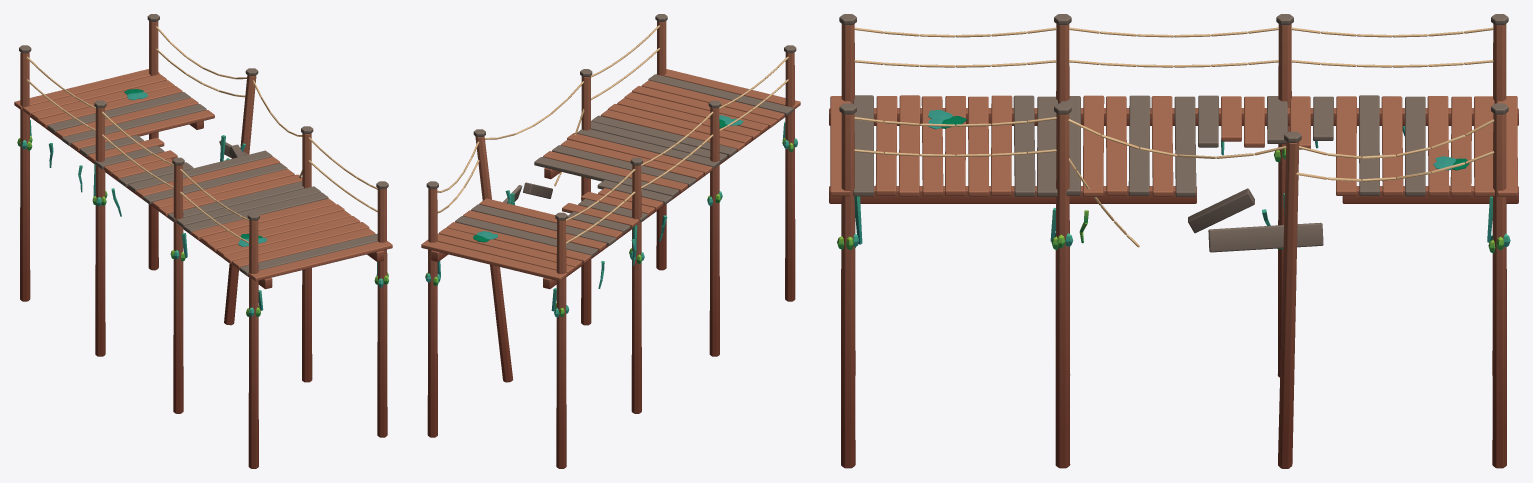
File: stilt_walkway_broken.glb
3 renders of one model, left to right at view 1: azimuth 30°, elevation 25°; view 2: azimuth 150°, elevation 25°; view 3: azimuth 270°, elevation 25°, orthographic. The views are drawn at different scales.
Parts seen in each view (by area): view 1: stilt_walkway_broken; view 2: stilt_walkway_broken; view 3: stilt_walkway_broken.
Part boxes in pixels (x1=…): stilt_walkway_broken: x1=14, y1=14, x2=392, y2=468; stilt_walkway_broken: x1=421, y1=14, x2=800, y2=468; stilt_walkway_broken: x1=829, y1=14, x2=1518, y2=468.
Bounding box in the file's own units: 3.65 × 5.19 × 9.
Materials: 1 (1 with a texture image).
